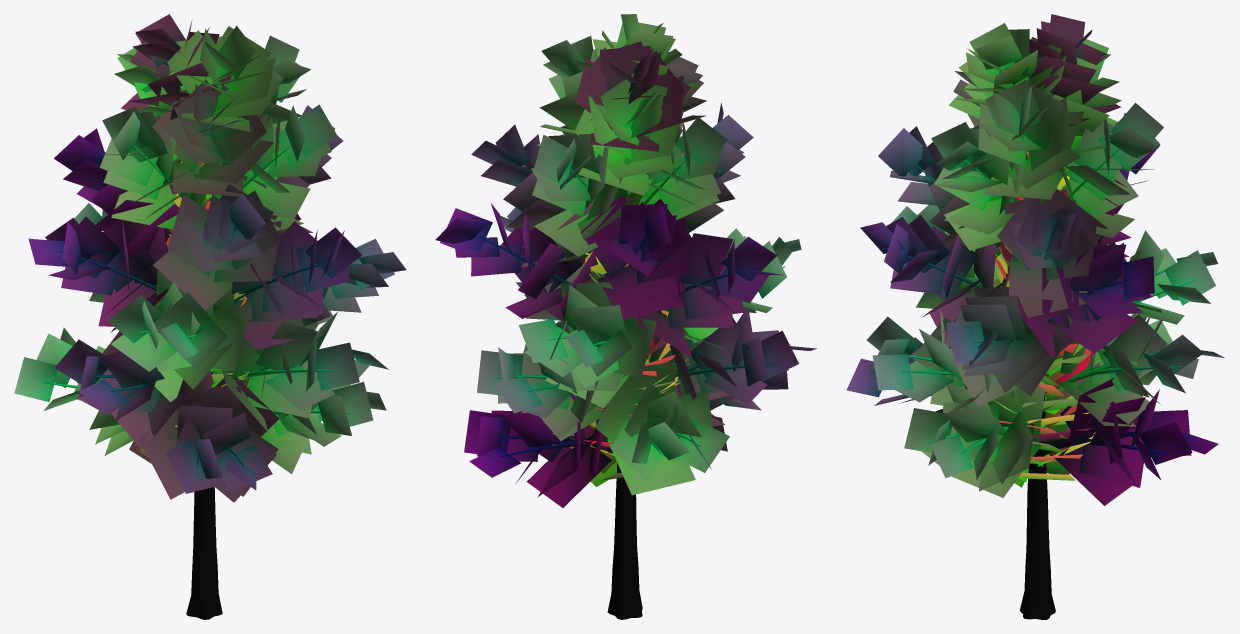
Rendered from WillowTrees.obj.
3 views of the same model, side by side, from view 1: azimuth 30°, elevation 25°; view 2: azimuth 150°, elevation 25°; view 3: azimuth 270°, elevation 25° (orthographic).
Visible parts, largest first — view 1: no texture, willow branch; view 2: no texture, willow branch; view 3: no texture, willow branch.
Part boxes in pixels (x1,y1,x2,y2): no texture: (14, 14, 406, 502); willow branch: (43, 70, 351, 619); no texture: (435, 14, 816, 507); willow branch: (475, 109, 785, 619); no texture: (847, 14, 1224, 505); willow branch: (875, 65, 1196, 619).
Size of the model in its own units: 66.91 by 116 by 67.84.
